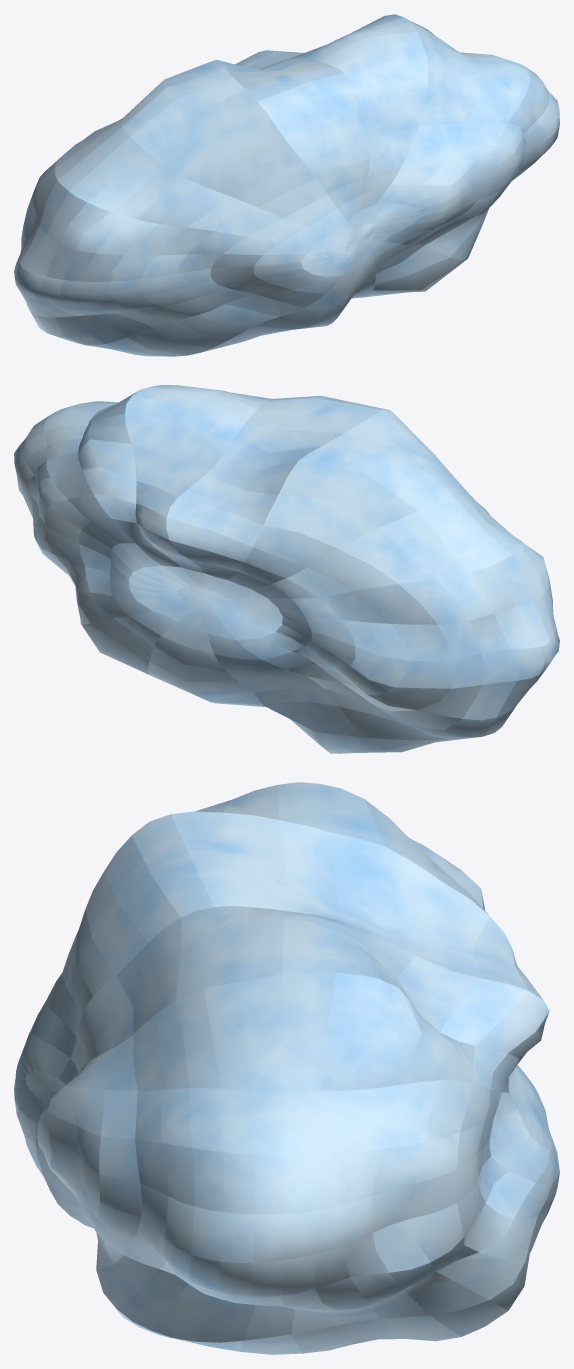
The model's file is cloud2.fbx.
The picture shows the model from 3 angles, top to bottom: view 1: azimuth 30°, elevation 25°; view 2: azimuth 150°, elevation 25°; view 3: azimuth 270°, elevation 25°; orthographic projection. The views are drawn at different scales.
Parts seen in each view (by area): view 1: pasted__pSphere2.001; view 2: pasted__pSphere2.001; view 3: pasted__pSphere2.001.
Boxes of the visible parts, x1,y1,x2,y2 form: pasted__pSphere2.001: (14,14,559,356); pasted__pSphere2.001: (14,385,559,753); pasted__pSphere2.001: (14,782,559,1354).
Size of the model in its own units: 9097 by 4836 by 4788.
Materials: 1 (1 with a texture image).
